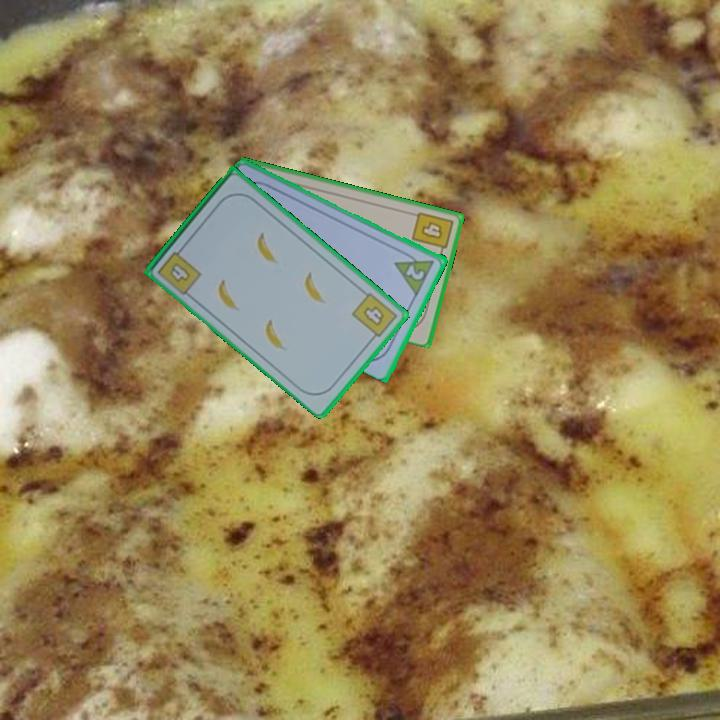2p: (403, 261, 428, 283)
4b: (348, 289, 400, 344), (154, 242, 205, 296), (408, 208, 456, 258)
